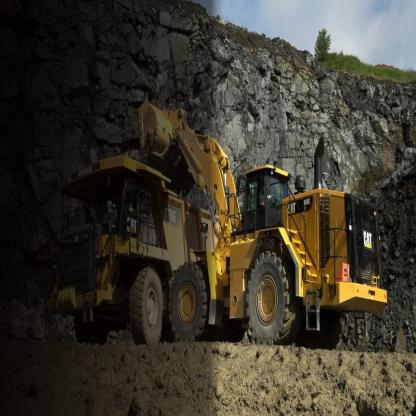bull_dozer/loader/grader: (133, 93, 382, 348)
